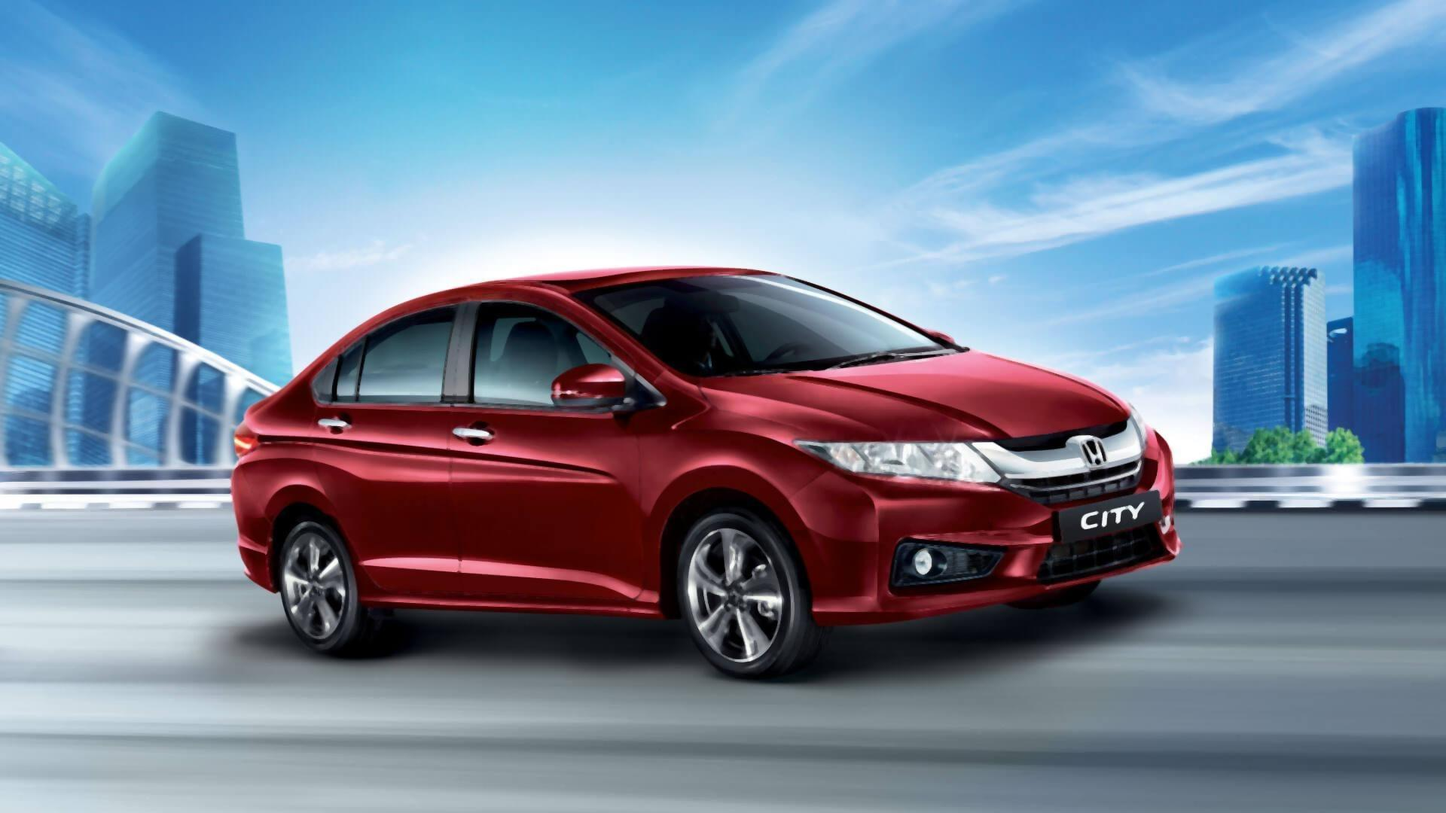Car hood: (660, 341, 1135, 460)
Driver-s door - -F-R-: (448, 269, 658, 646)
Fender - -F-R-: (625, 359, 853, 533)
Fender - -R-R-: (234, 361, 342, 578)
Front bumper: (770, 423, 1208, 622)
Headlight - -R-: (792, 435, 1001, 483)
Passenger-s door - -R-R-: (290, 270, 467, 648)
Side bumper - -R-: (358, 563, 670, 644)
Side mirror - -R-: (544, 363, 637, 422)
